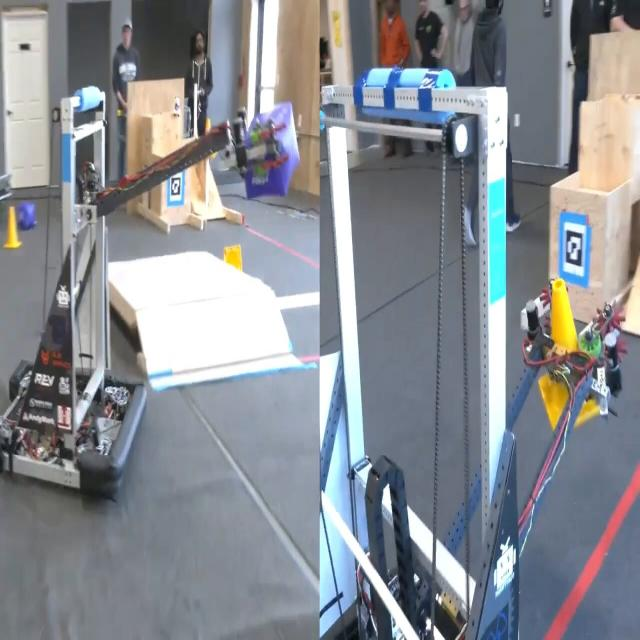frc_cone: (529, 271, 606, 429), (216, 241, 249, 278), (2, 206, 20, 250)
frc_cube: (242, 108, 300, 193), (20, 199, 36, 232)
